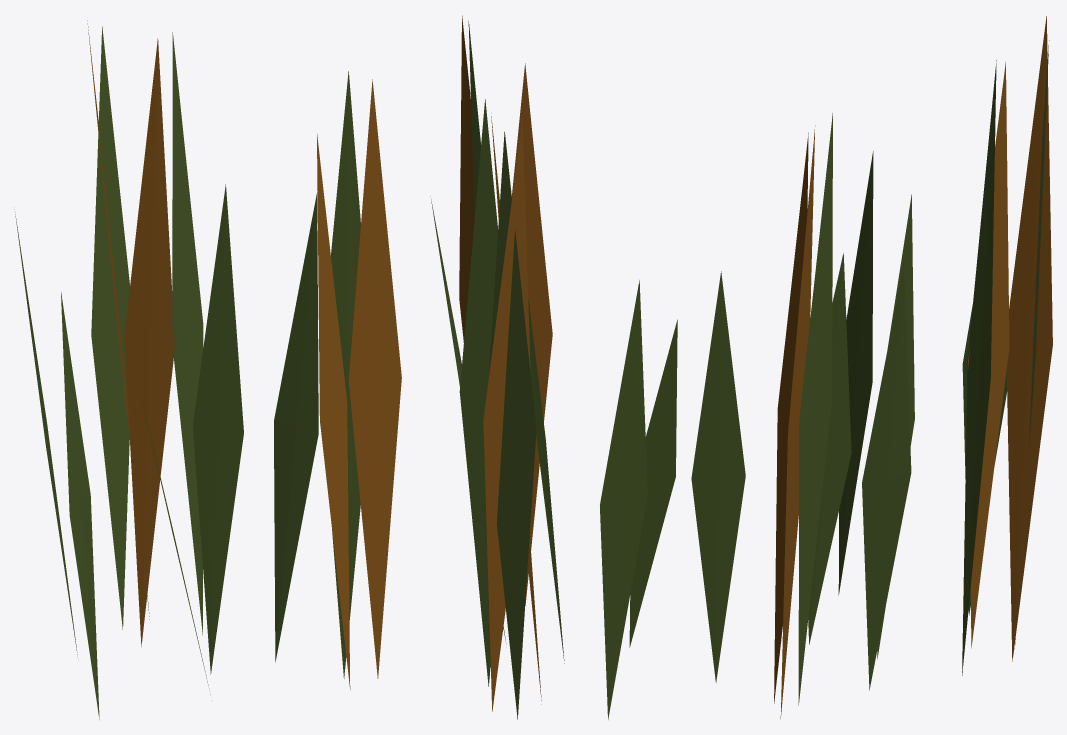
File: Plant_TallGrass_02.fbx
3 renders of one model, left to right at view 1: azimuth 30°, elevation 25°; view 2: azimuth 150°, elevation 25°; view 3: azimuth 270°, elevation 25°, orthographic. The views are drawn at different scales.
Visible parts, largest first — view 1: Plant_TallGrass_02_Mesh; view 2: Plant_TallGrass_02_Mesh; view 3: Plant_TallGrass_02_Mesh.
Boxes of the visible parts, <box> form: Plant_TallGrass_02_Mesh: <box>15,20,401,719</box>; Plant_TallGrass_02_Mesh: <box>431,15,745,719</box>; Plant_TallGrass_02_Mesh: <box>774,16,1052,718</box>.
Size of the model in its own units: 0.5265 by 1 by 0.4042.
1 material, 1 textured.
